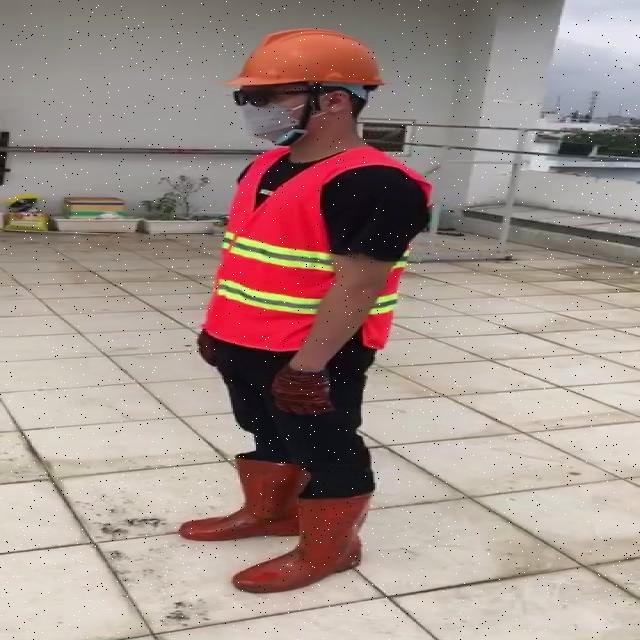Hard_hat: (218, 25, 392, 107)
Person: (182, 21, 439, 638)
Vest: (209, 146, 346, 358)
